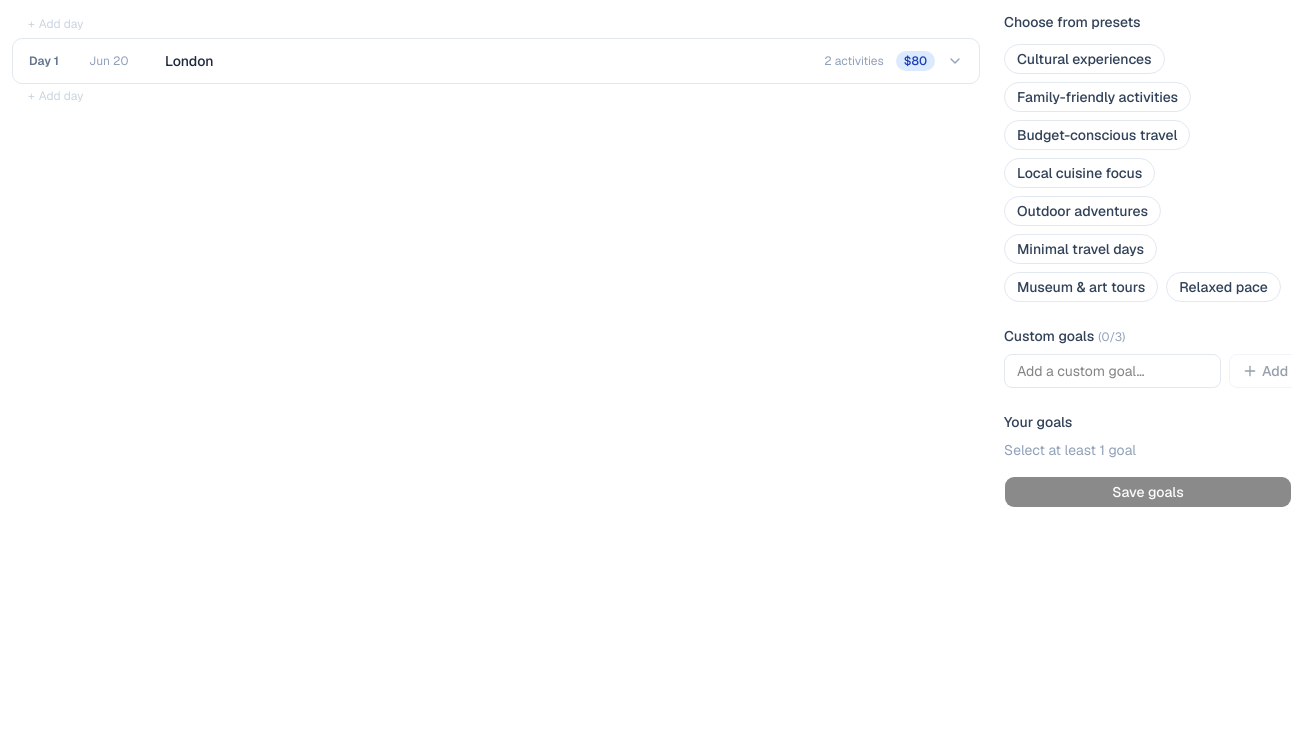
it: Activity cost mapping from API › expanded card shows activity names from API
Click the button "Day 1 Jun 20 London 2 activities $80" at (109, 61), box 13,39 -> 979,83
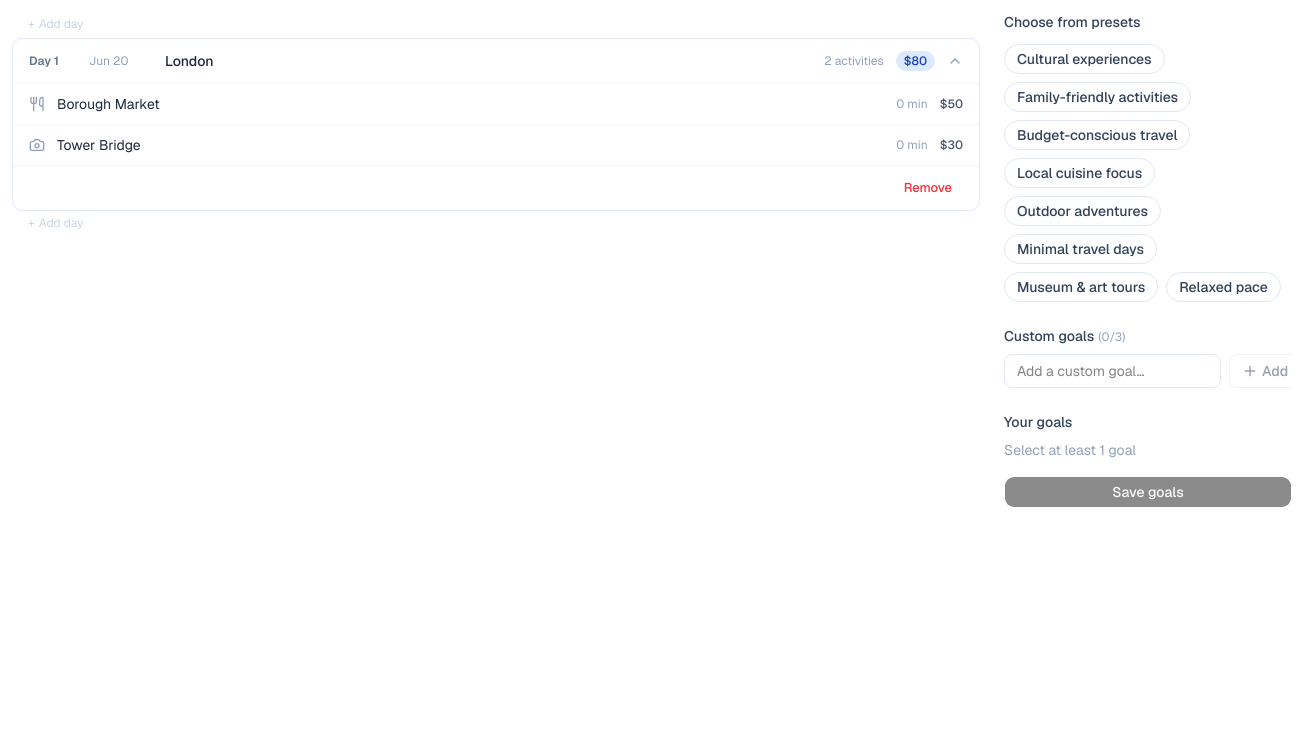
Expected: the text "Borough Market" is shown, 57,95 -> 160,113
Expected: the text "Tower Bridge" is shown, 57,136 -> 141,154
